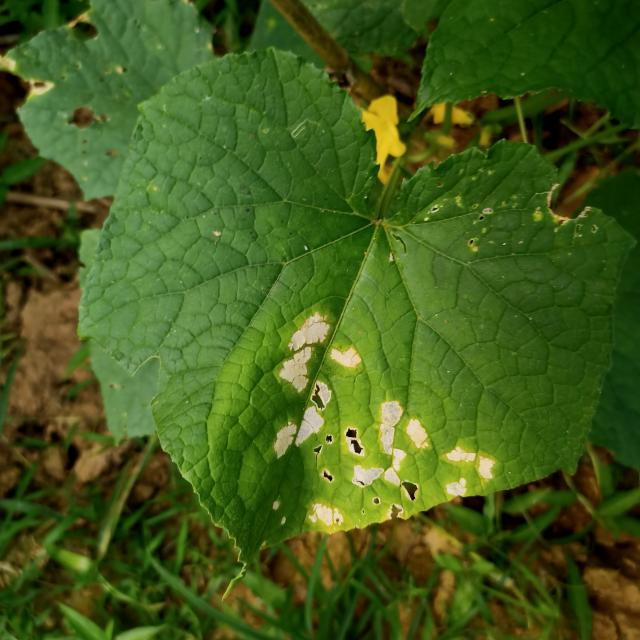disease_cucumber: (260, 299, 502, 538)
